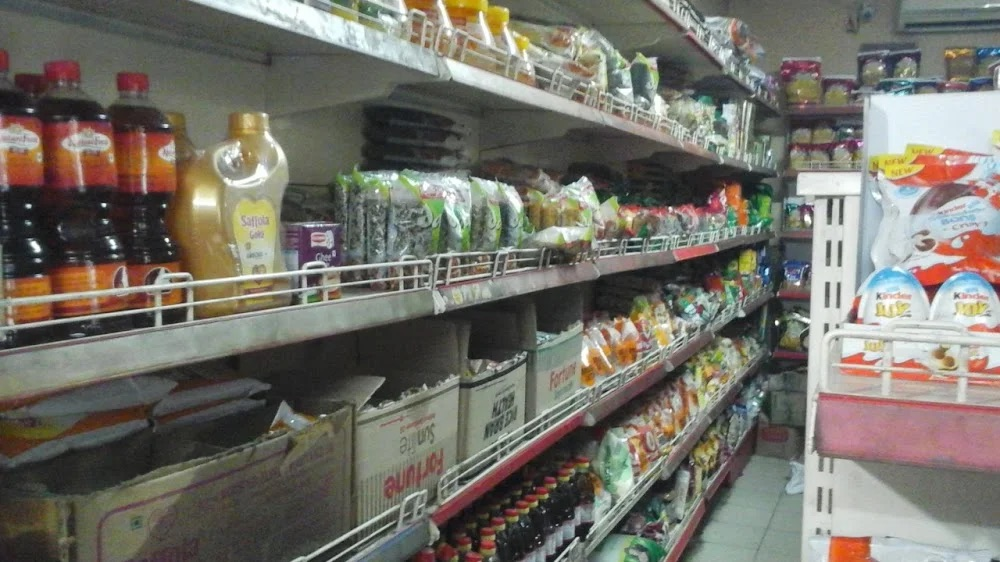saffola: (155, 107, 307, 321)
